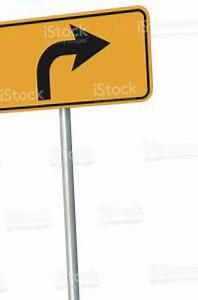right: (2, 7, 153, 109)
